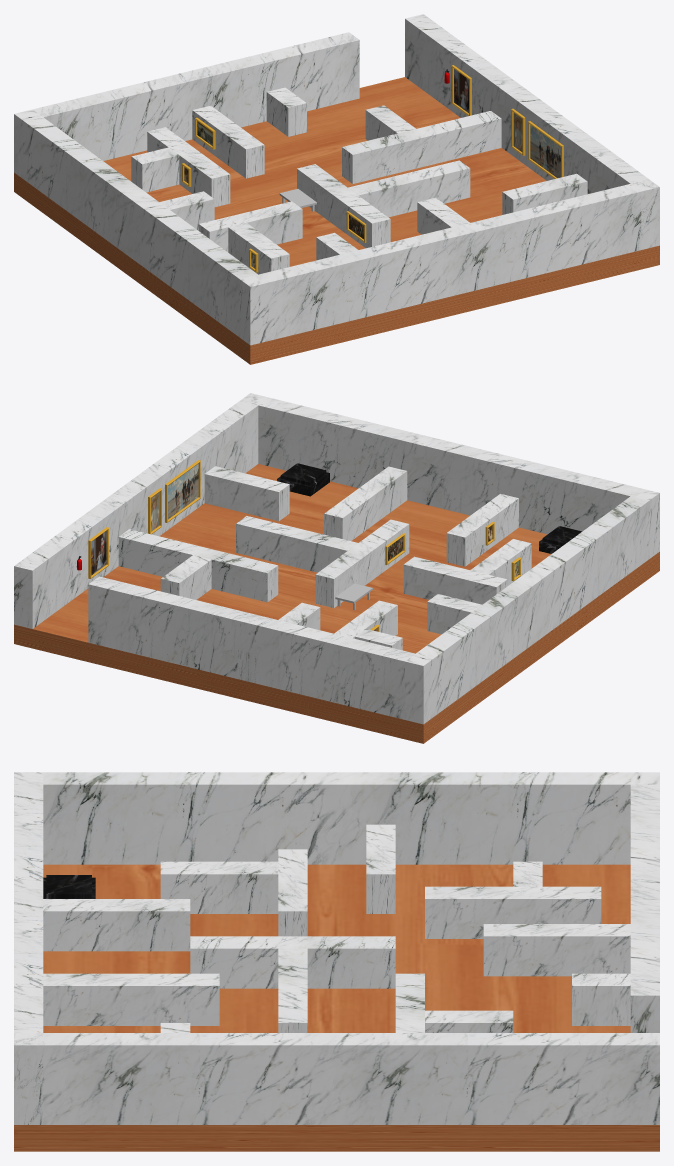
Rendered from scene_textures.fbx.
3 views of the same model, one above another, from view 1: azimuth 30°, elevation 25°; view 2: azimuth 150°, elevation 25°; view 3: azimuth 270°, elevation 25° (orthographic). The views are drawn at different scales.
Visible parts, largest first — view 1: pCube1, pCube14, pCube13, pCube20, pCube15, pCube7, pCube50, pCube10, pCube9, pCube6, pCube2, pCube18 (+9 smaller); view 2: pCube1, pCube14, pCube13, pCube20, pCube15, pCube7, pCube10, pCube9, pCube17, pCube18, pCube2, pCube11 (+10 smaller); view 3: pCube15, pCube1, pCube20, pCube14, pCube9, pCube17, pCube50, pCube11, pCube6, pCube13, pCube3, pCube19 (+6 smaller).
Boxes of the visible parts, bbox=[...] form: pCube1: bbox=[14, 77, 659, 364]; pCube14: bbox=[239, 179, 659, 345]; pCube13: bbox=[33, 32, 359, 160]; pCube20: bbox=[14, 109, 257, 337]; pCube15: bbox=[405, 14, 659, 249]; pCube7: bbox=[342, 111, 501, 183]; pCube50: bbox=[131, 127, 230, 206]; pCube10: bbox=[348, 160, 470, 217]; pCube9: bbox=[297, 164, 390, 248]; pCube6: bbox=[192, 105, 264, 178]; pCube2: bbox=[198, 201, 302, 252]; pCube18: bbox=[502, 173, 587, 214]; pCube1: bbox=[14, 464, 659, 743]; pCube14: bbox=[240, 393, 659, 558]; pCube13: bbox=[88, 576, 414, 719]; pCube20: bbox=[405, 496, 649, 724]; pCube15: bbox=[14, 394, 264, 628]; pCube7: bbox=[118, 529, 278, 602]; pCube10: bbox=[236, 516, 357, 572]; pCube9: bbox=[315, 519, 409, 607]; pCube17: bbox=[324, 466, 407, 540]; pCube18: bbox=[204, 466, 289, 521]; pCube2: bbox=[403, 556, 507, 604]; pCube11: bbox=[446, 493, 518, 566]; pCube15: bbox=[14, 1033, 659, 1124]; pCube1: bbox=[14, 864, 659, 1151]; pCube20: bbox=[43, 772, 659, 864]; pCube14: bbox=[14, 772, 43, 1124]; pCube9: bbox=[190, 936, 395, 988]; pCube17: bbox=[43, 973, 219, 1025]; pCube50: bbox=[425, 861, 601, 938]; pCube11: bbox=[43, 899, 190, 951]; pCube6: bbox=[483, 924, 630, 976]; pCube13: bbox=[630, 784, 659, 1032]; pCube3: bbox=[160, 861, 278, 913]; pCube19: bbox=[572, 973, 630, 1025].
Bounding box in the file's own units: 22 × 4 × 22.
